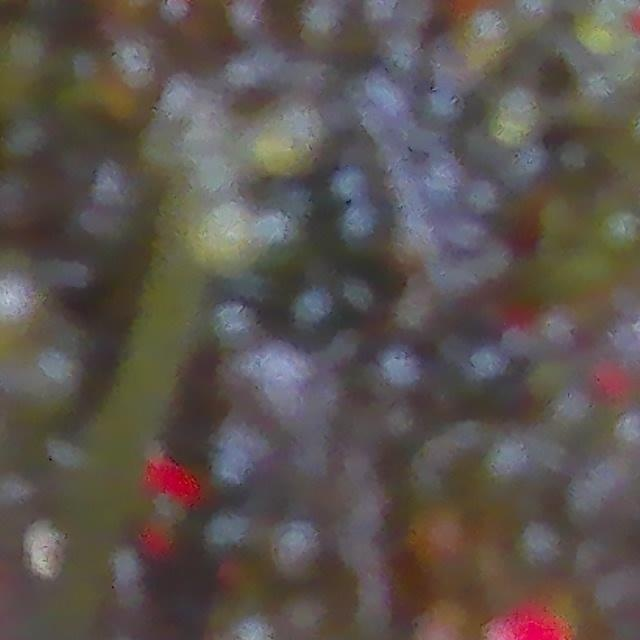SeaGrape: (89, 44, 166, 119), (193, 201, 252, 261), (105, 0, 170, 48)
